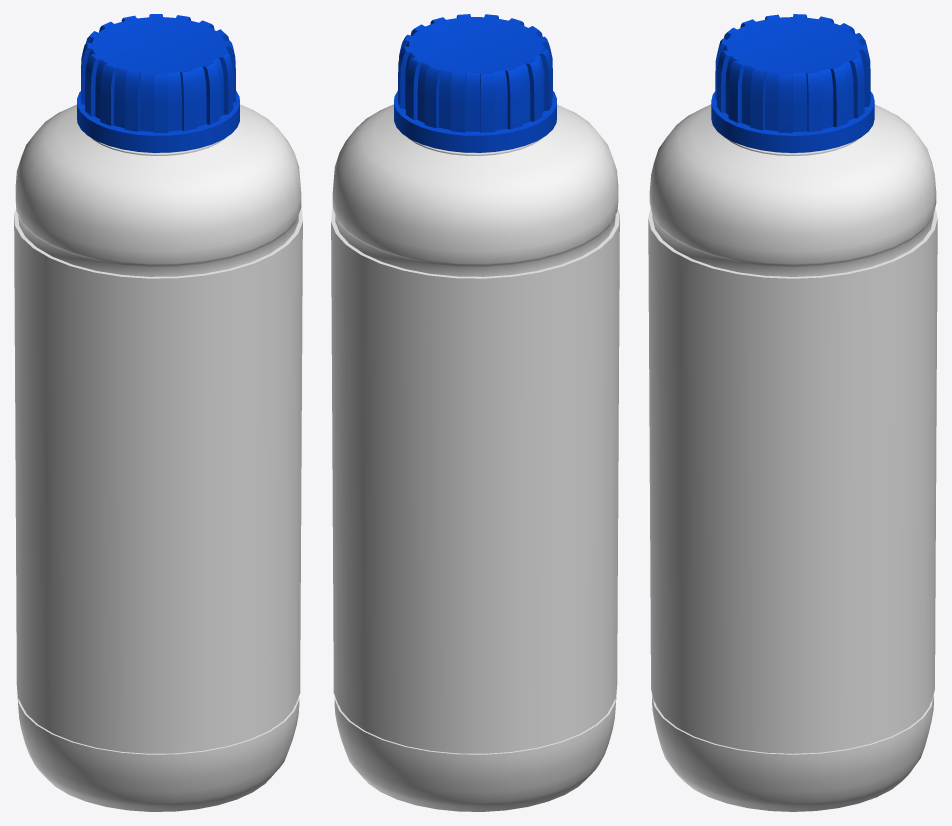
The model's file is AcidContainer.gltf.
3 views of the same model, side by side, from view 1: azimuth 30°, elevation 25°; view 2: azimuth 150°, elevation 25°; view 3: azimuth 270°, elevation 25° (orthographic).
Visible parts, largest first — view 1: Cylinder.230, Cylinder.231; view 2: Cylinder.230, Cylinder.231; view 3: Cylinder.230, Cylinder.231.
Part boxes in pixels (left/top/right/bottom): Cylinder.230: left=14, top=104, right=302, bottom=811; Cylinder.231: left=77, top=14, right=239, bottom=152; Cylinder.230: left=331, top=104, right=619, bottom=811; Cylinder.231: left=394, top=14, right=556, bottom=152; Cylinder.230: left=648, top=104, right=937, bottom=811; Cylinder.231: left=711, top=14, right=874, bottom=152.
Bounding box in the file's own units: 0.1932 × 0.5285 × 0.1932.
Materials: 2 (1 with a texture image).
